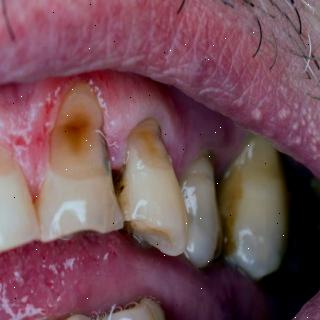Gum Swelling: (89, 72, 253, 174), (0, 73, 83, 201)
calculus: (113, 156, 132, 212)
stains: (215, 160, 260, 254)
